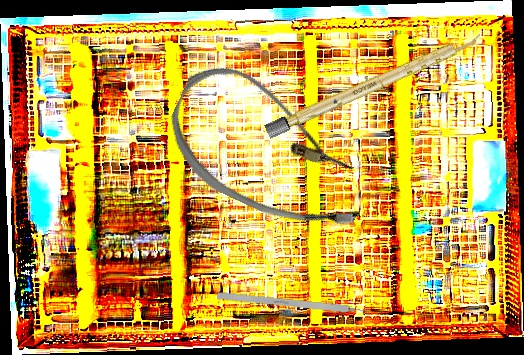Cannula: (150, 53, 392, 249)
Hook Surgical: (217, 291, 379, 317)
Scalpel Handle: (264, 30, 484, 139)
